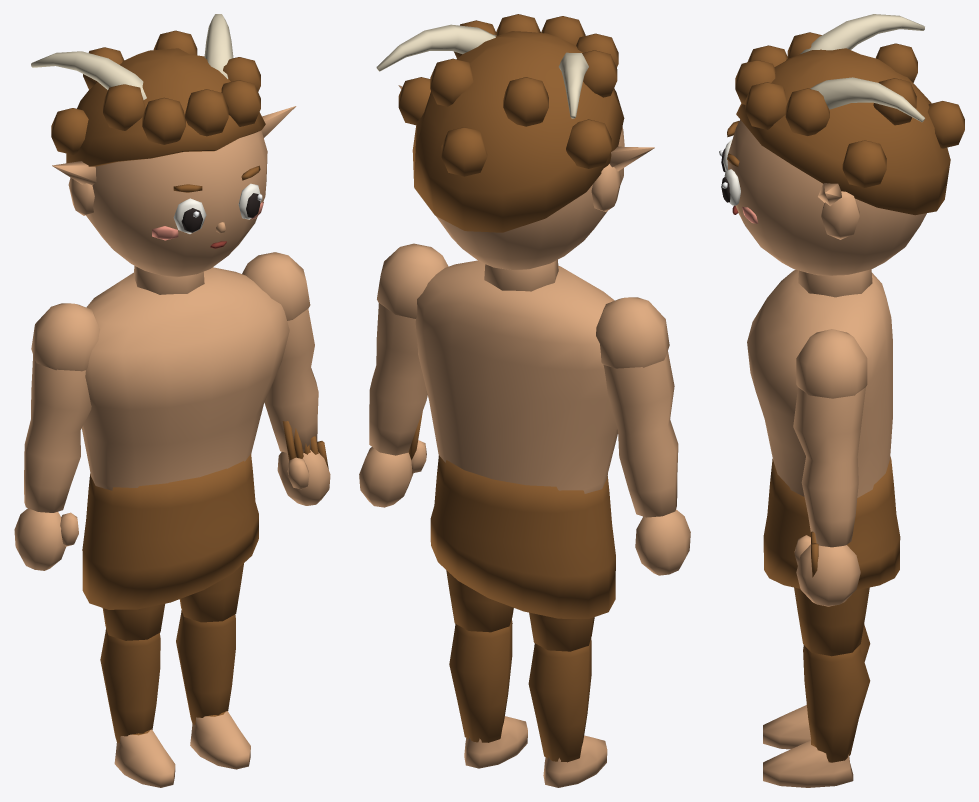
Rendered from satyrjunge.glb.
3 views of the same model, side by side, from view 1: azimuth 30°, elevation 25°; view 2: azimuth 150°, elevation 25°; view 3: azimuth 270°, elevation 25° (orthographic). The views are drawn at different scales.
Visible parts, largest first — view 1: rumpf, huefte, kopf, haare, armL, armR, knieL, knieR, kopfschmuck, beinR, beinL, augeL (+2 smaller); view 2: rumpf, haare, huefte, armL, armR, kopf, knieL, knieR, kopfschmuck, beinR, beinL; view 3: haare, rumpf, kopf, armR, knieR, huefte, kopfschmuck, beinR, knieL, augeR.
Boxes of the visible parts, bbox=[...] form: rumpf: bbox=[81, 267, 289, 490]; huefte: bbox=[82, 454, 258, 609]; kopf: bbox=[68, 130, 267, 294]; haare: bbox=[51, 30, 265, 166]; armL: bbox=[14, 303, 99, 570]; armR: bbox=[242, 252, 330, 505]; knieL: bbox=[100, 628, 175, 787]; knieR: bbox=[176, 610, 250, 769]; kopfschmuck: bbox=[31, 14, 296, 185]; beinR: bbox=[179, 563, 243, 622]; beinL: bbox=[102, 604, 164, 640]; augeL: bbox=[173, 198, 206, 233]; rumpf: bbox=[415, 260, 617, 493]; haare: bbox=[398, 14, 624, 232]; huefte: bbox=[430, 455, 615, 618]; armL: bbox=[596, 297, 690, 575]; armR: bbox=[359, 243, 448, 507]; kopf: bbox=[436, 127, 624, 291]; knieL: bbox=[528, 638, 607, 787]; knieR: bbox=[449, 619, 527, 768]; kopfschmuck: bbox=[376, 24, 654, 171]; beinR: bbox=[446, 570, 513, 632]; beinL: bbox=[529, 612, 594, 651]; haare: bbox=[735, 32, 964, 215]; rumpf: bbox=[747, 269, 892, 497]; kopf: bbox=[727, 119, 926, 297]; armR: bbox=[793, 329, 867, 606]; knieR: bbox=[763, 645, 870, 787]; huefte: bbox=[763, 456, 900, 589]; kopfschmuck: bbox=[800, 14, 924, 205]; beinR: bbox=[794, 587, 869, 656]; knieL: bbox=[763, 624, 870, 749]; augeR: bbox=[721, 169, 740, 205].
Bounding box in the file's own units: 1.05 × 2.3 × 0.7242.
